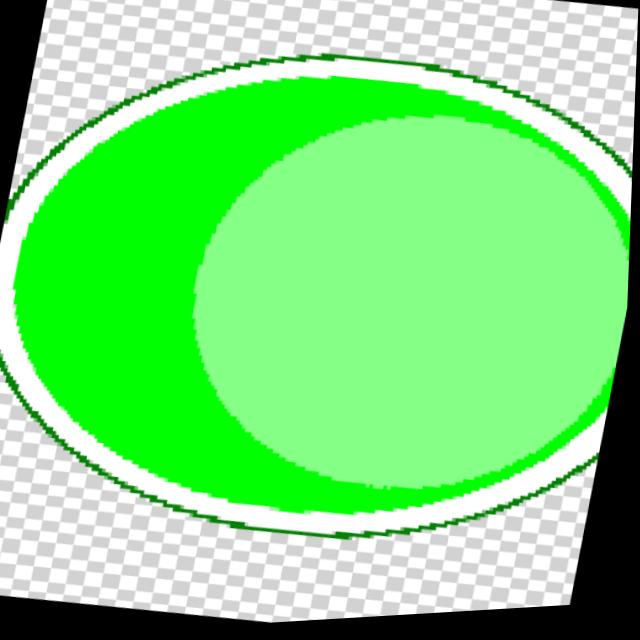green_light: (0, 18, 639, 542)
